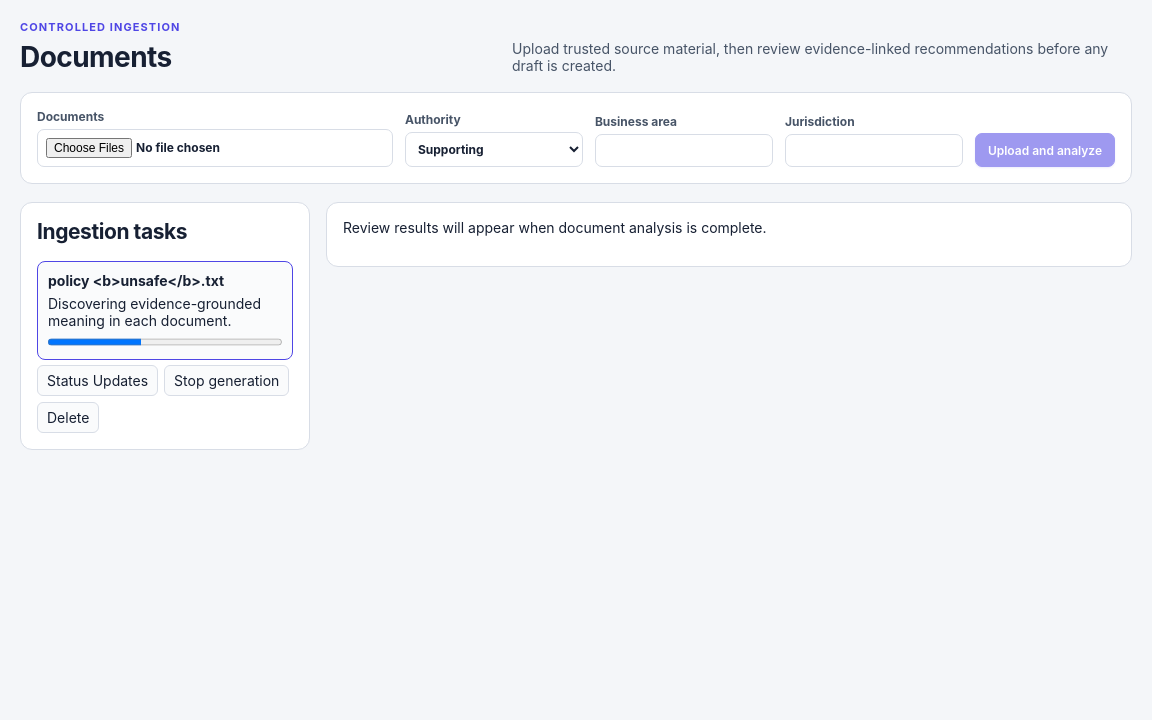
Scenario: document ingestion review workspace › warns that visible status is stale when live task polling fails
This screenshot has width=1152, height=720.
Check: the text "Discovering evidence-grounded meaning in each document." is shown, box [48, 295, 282, 329]
Click the button "Status Updates".
click(98, 381)  # box [37, 365, 158, 396]
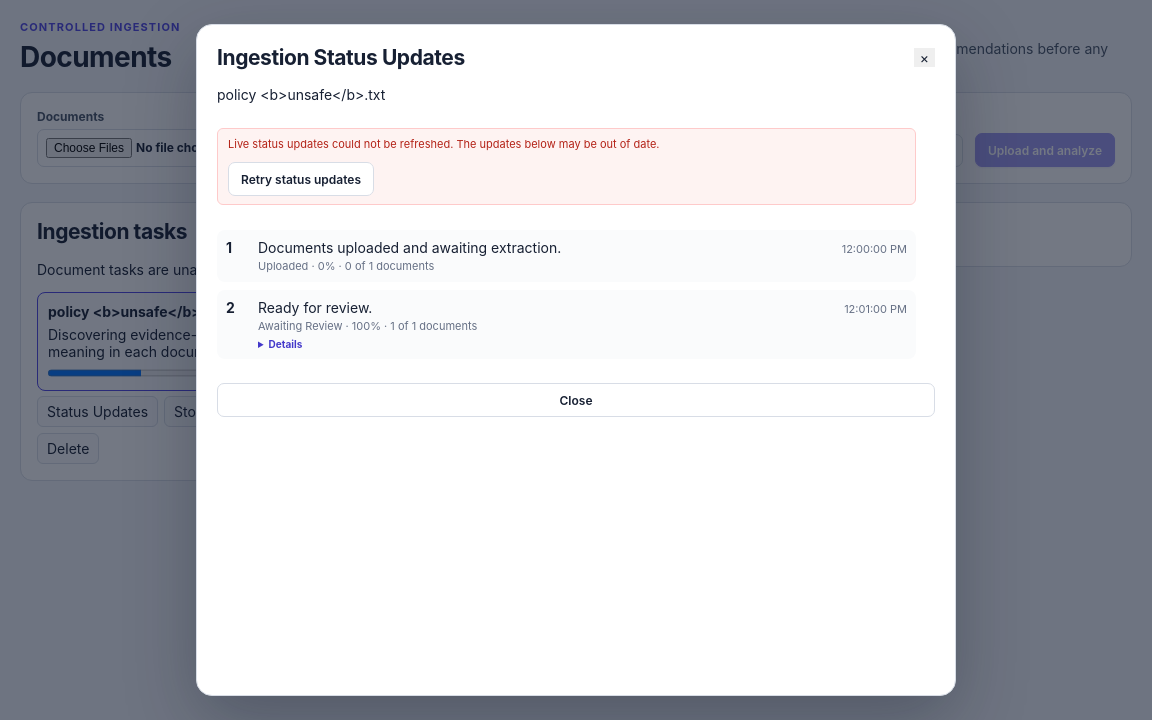
Check: the message shows "Live status updates could not be refreshed. The updates below may be out of date.", box [228, 137, 660, 151]
Check: the button "Retry status updates" is shown, box [228, 162, 374, 196]
